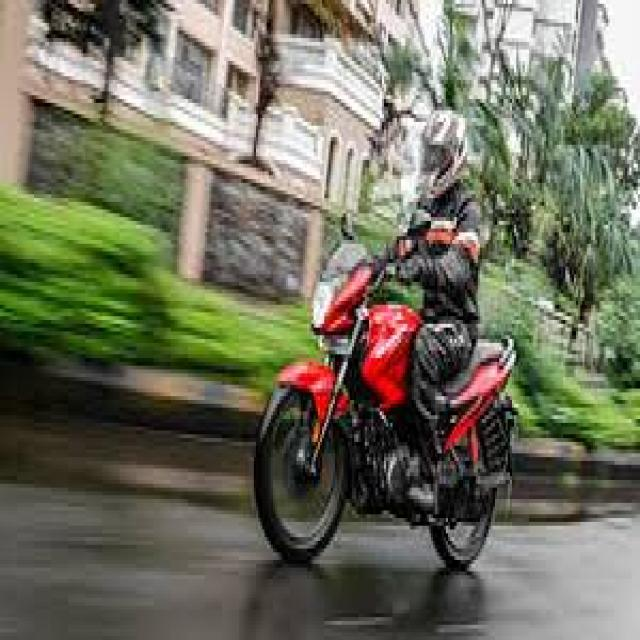Bike: (253, 211, 517, 574)
